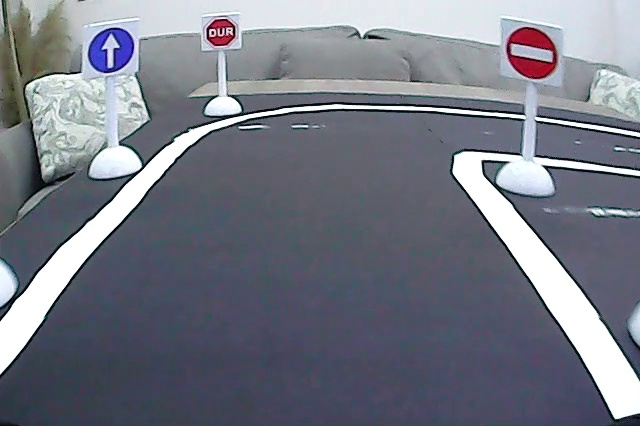do not enter: (503, 23, 560, 83)
stop sign: (204, 16, 239, 49)
